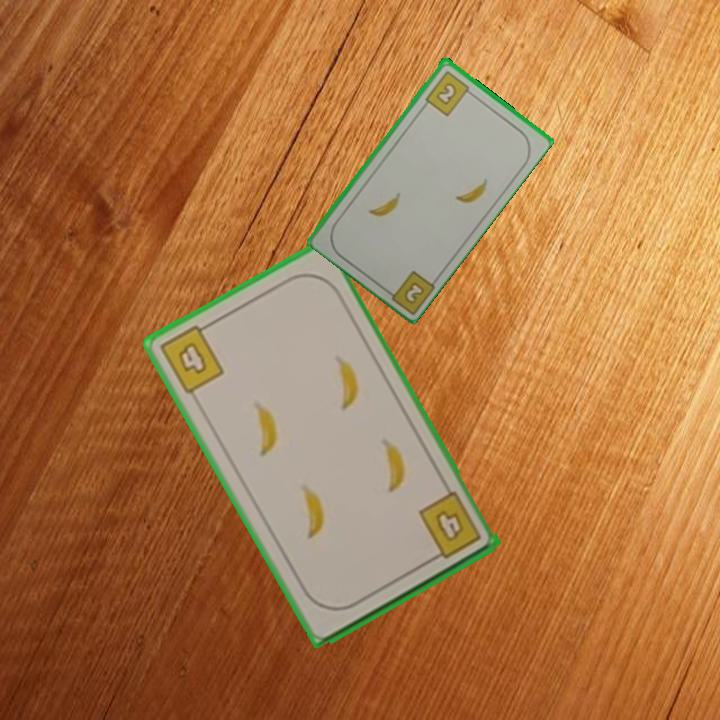2b: (421, 67, 476, 119), (380, 266, 438, 315)
4b: (155, 318, 227, 397), (414, 488, 485, 565)
